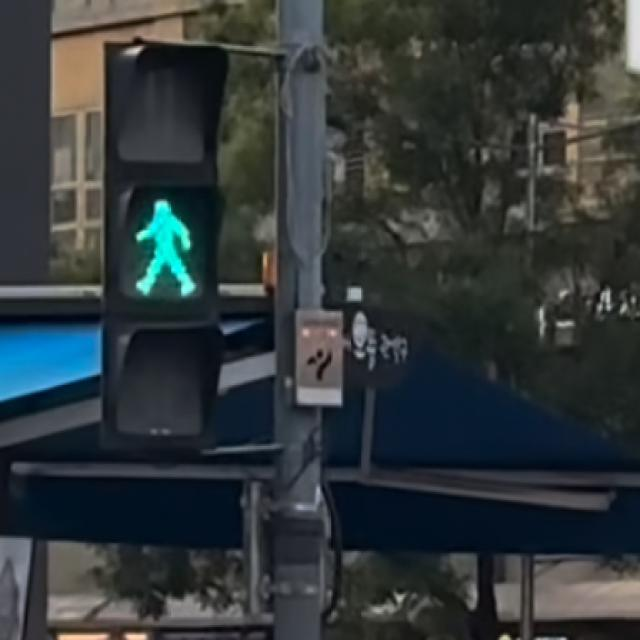green-light: (109, 40, 222, 457)
